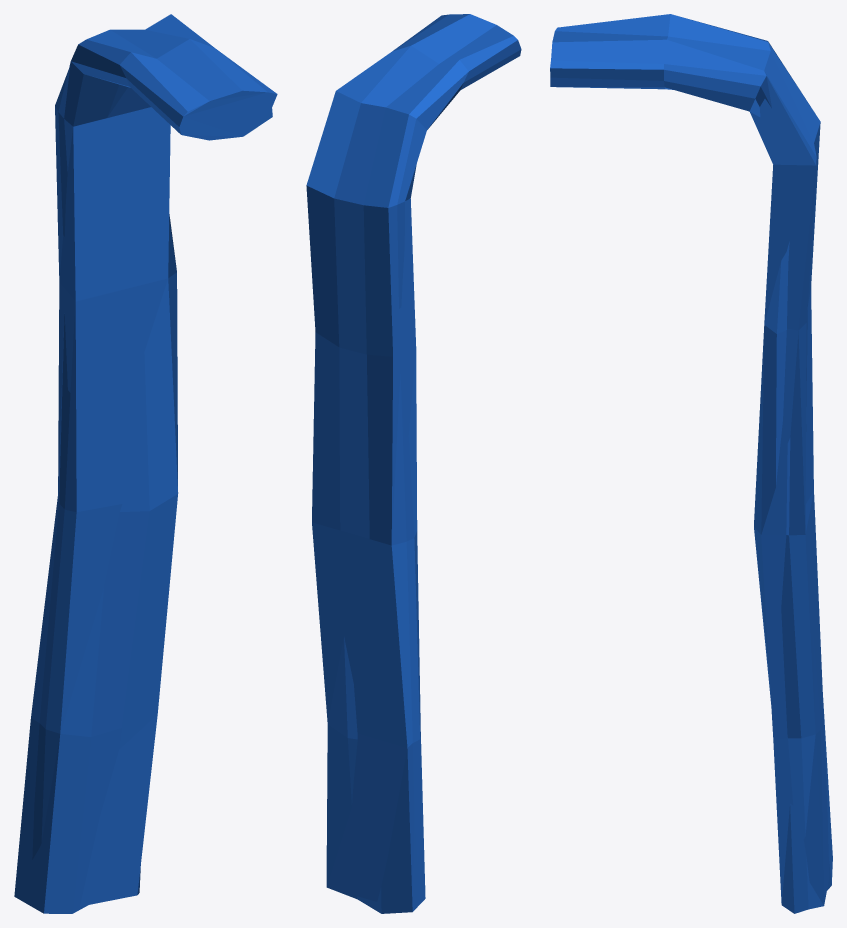
The model's file is Waterfall.FBX.
The picture shows the model from 3 angles, left to right: view 1: azimuth 30°, elevation 25°; view 2: azimuth 150°, elevation 25°; view 3: azimuth 270°, elevation 25°; orthographic projection. The views are drawn at different scales.
Visible parts, largest first — view 1: Cube.012; view 2: Cube.012; view 3: Cube.012.
Boxes of the visible parts, x1,y1,x2,y2 form: Cube.012: [14, 14, 277, 913]; Cube.012: [306, 14, 521, 913]; Cube.012: [550, 14, 832, 913].
Bounding box in the file's own units: 93.56 × 611 × 180.
